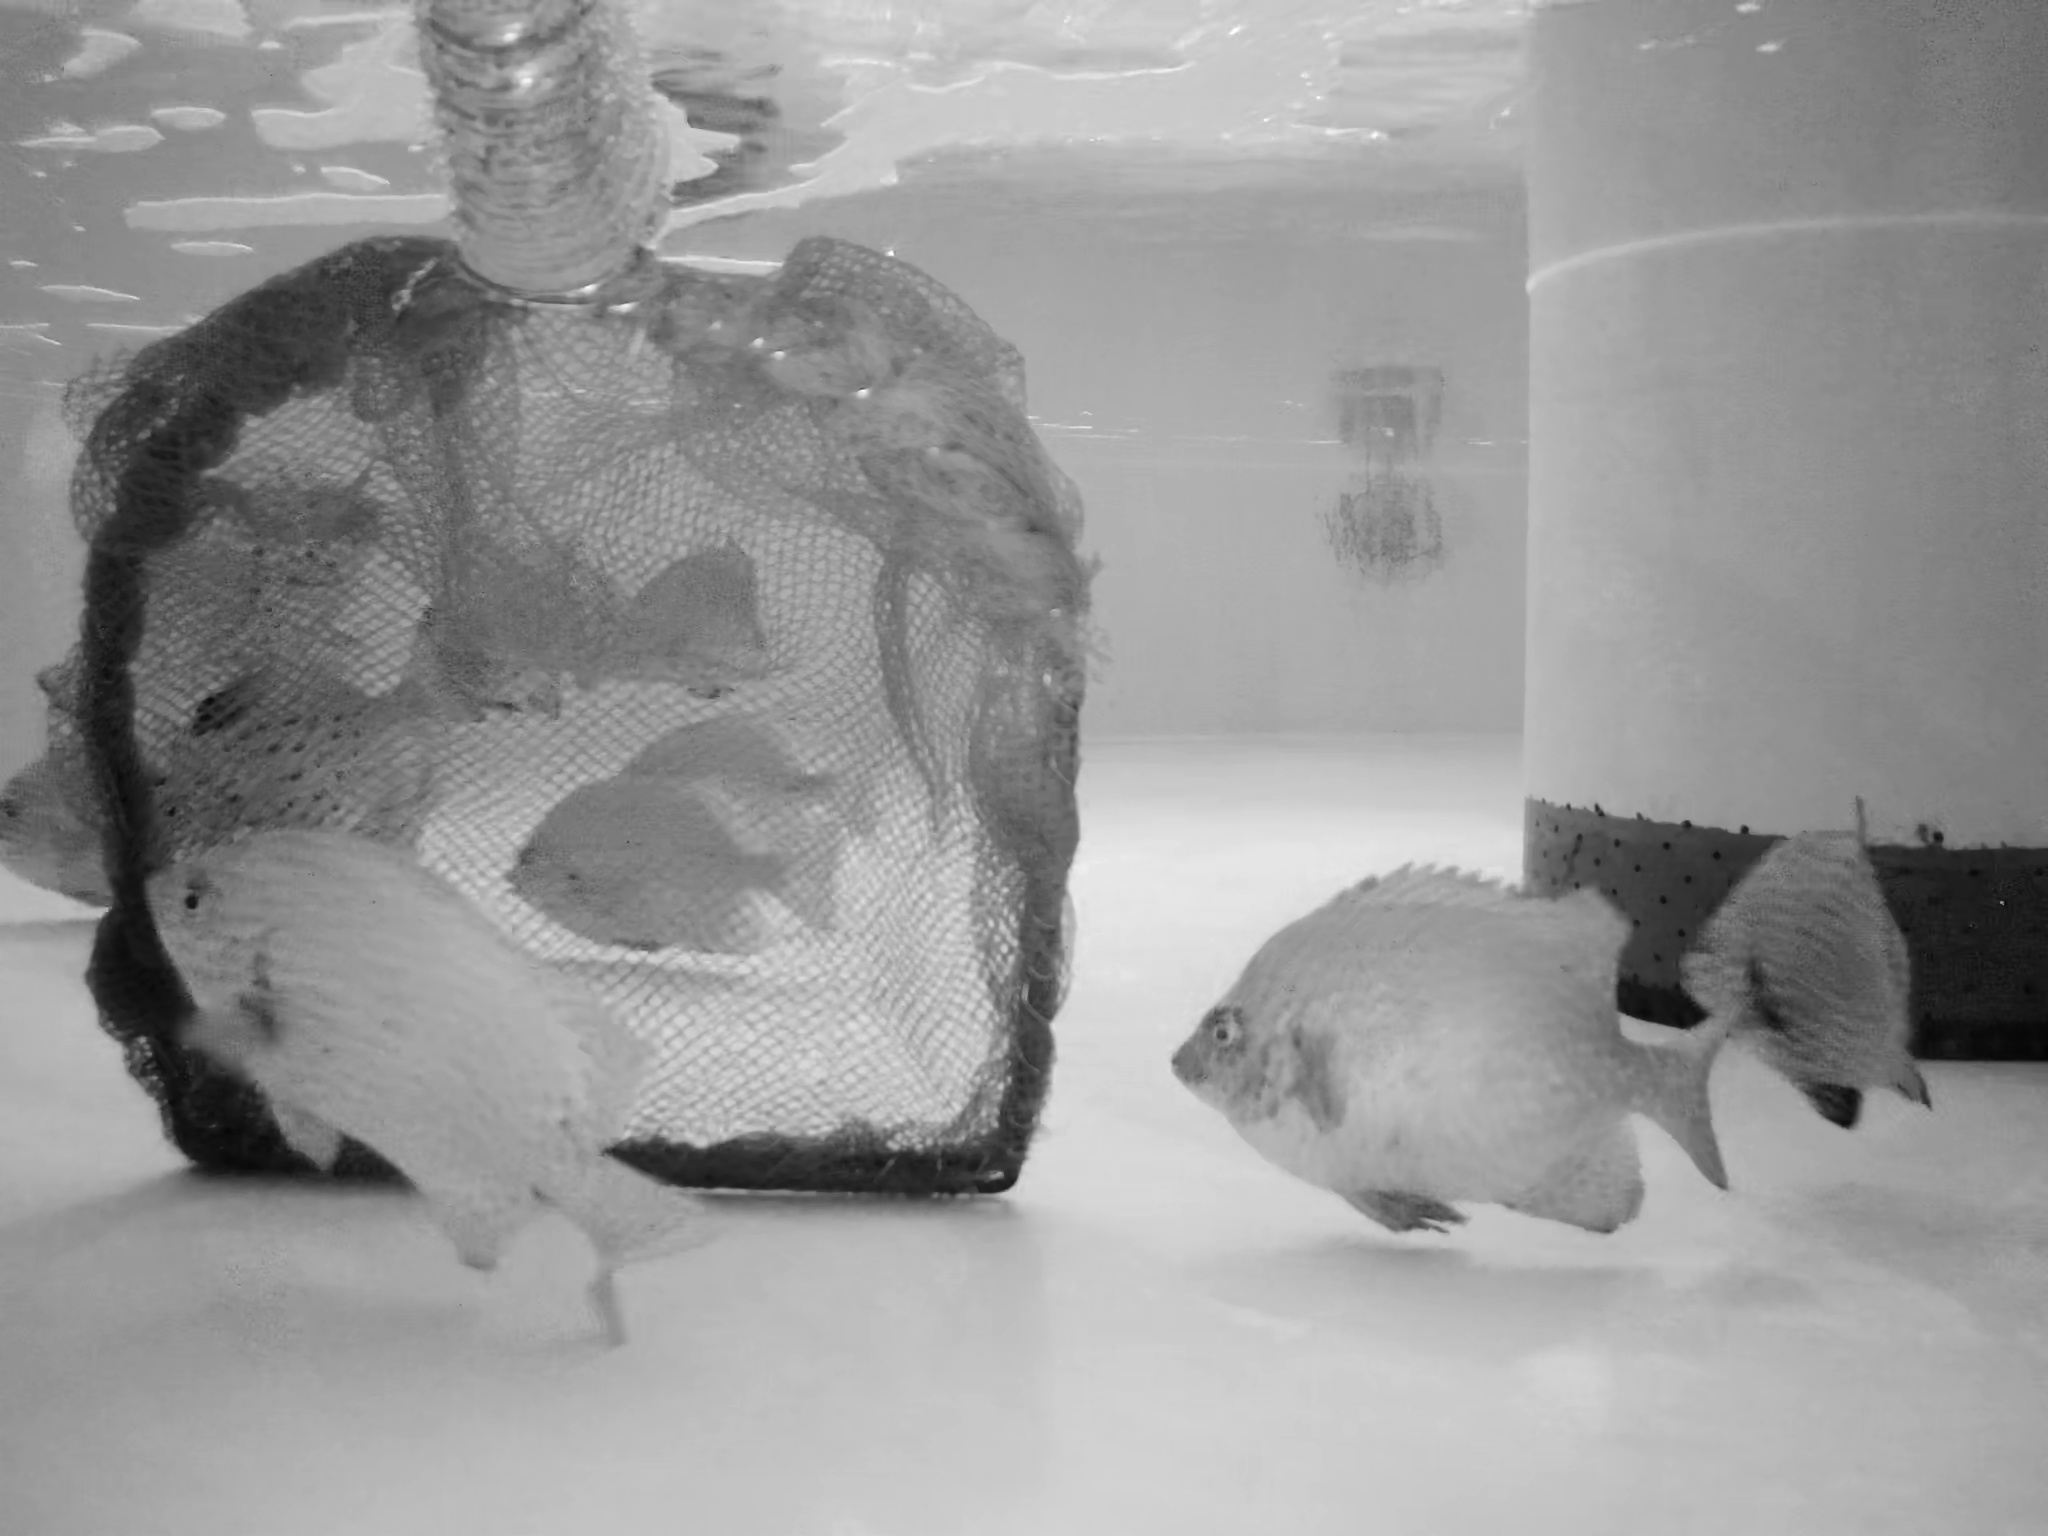fish: (142, 833, 722, 1326), (1166, 863, 1737, 1246), (1687, 815, 1937, 1129), (518, 774, 845, 978), (424, 544, 776, 700), (174, 676, 447, 837), (611, 703, 892, 849), (2, 733, 197, 897)
